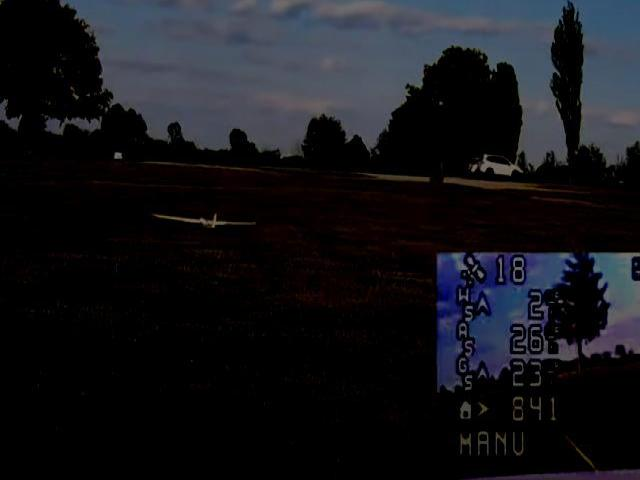iha: (154, 210, 258, 229)
